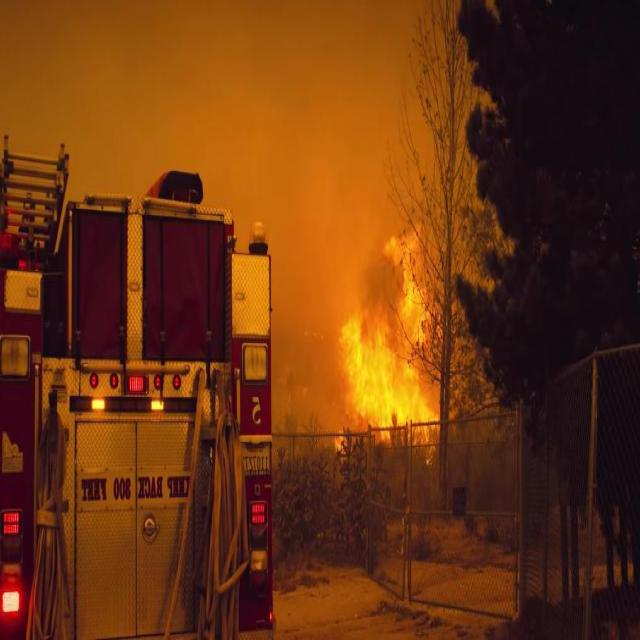Fire: (332, 210, 442, 468)
